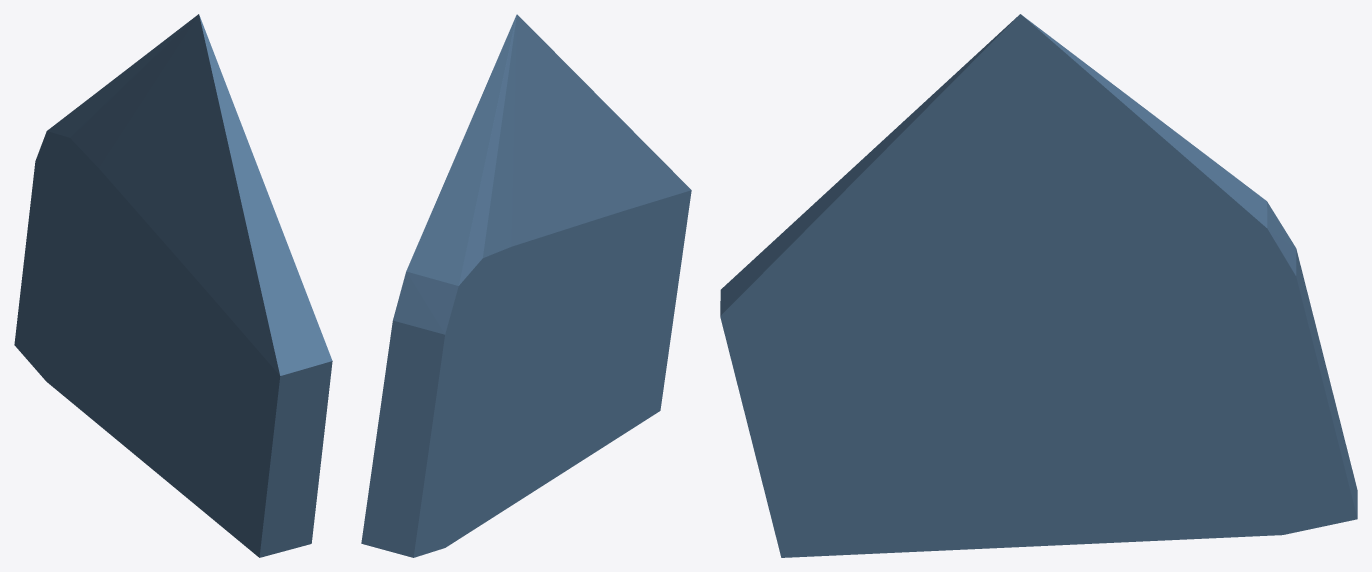
The model's file is converted_Downdraft_Assy_collision_37_5b7e9fff.obj.
3 renders of one model, left to right at view 1: azimuth 30°, elevation 25°; view 2: azimuth 150°, elevation 25°; view 3: azimuth 270°, elevation 25°, orthographic. The views are drawn at different scales.
Size of the model in its own units: 0.0177 by 0.1317 by 0.1411.
